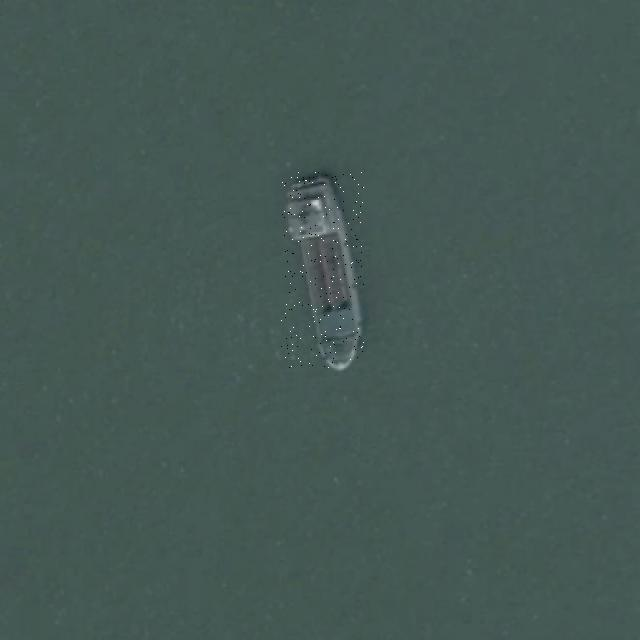boat: (281, 172, 364, 370)
